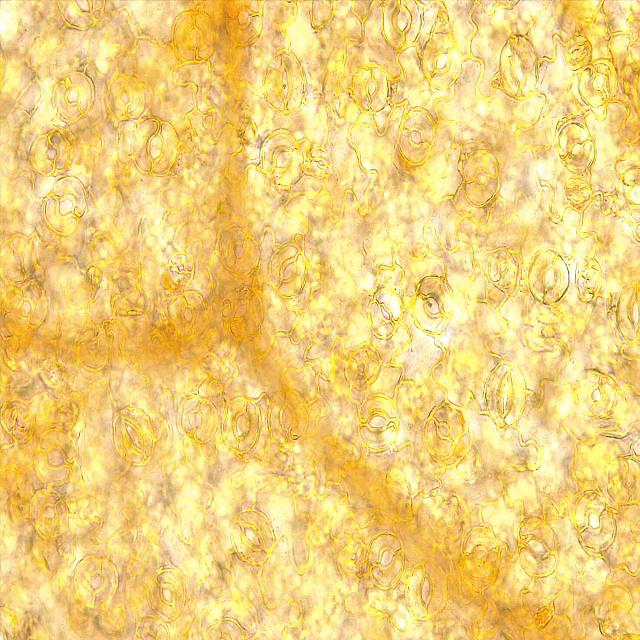Stomata: (261, 48, 308, 115), (481, 361, 527, 429), (572, 490, 620, 554), (517, 513, 561, 582), (403, 558, 449, 622), (498, 32, 540, 102), (410, 274, 457, 336), (418, 30, 464, 93), (42, 174, 88, 237), (131, 117, 180, 176), (0, 281, 50, 338), (72, 554, 121, 611), (230, 508, 278, 566), (219, 283, 265, 342), (112, 406, 156, 466), (260, 129, 304, 188), (171, 9, 217, 65), (266, 388, 311, 444), (527, 247, 570, 305), (462, 147, 502, 209), (359, 393, 401, 452), (50, 70, 96, 123), (33, 427, 75, 485), (396, 106, 436, 166), (380, 0, 425, 53), (422, 402, 463, 460), (268, 242, 308, 301), (366, 532, 405, 591), (461, 524, 502, 580), (576, 58, 621, 109), (146, 569, 189, 622), (221, 397, 262, 452), (218, 227, 262, 278), (27, 488, 69, 541), (556, 121, 597, 175), (365, 286, 404, 342), (576, 366, 617, 419), (28, 127, 71, 177), (167, 290, 208, 340), (223, 0, 264, 48), (178, 395, 218, 444), (0, 233, 38, 284), (352, 64, 389, 113), (54, 0, 108, 32), (607, 456, 640, 505), (615, 281, 640, 344), (108, 74, 142, 118), (76, 329, 110, 372), (486, 248, 519, 292), (344, 348, 380, 388), (566, 34, 596, 71), (132, 614, 171, 640), (170, 252, 195, 288), (309, 148, 332, 178)
